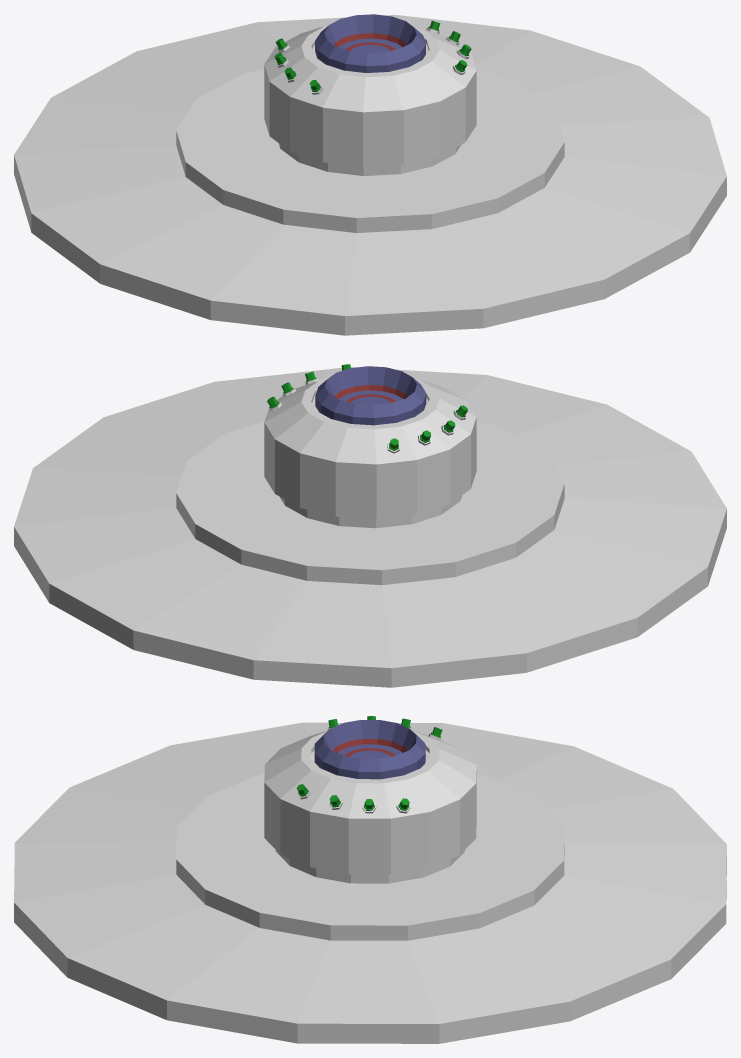
Rendered from reactor_bottom.fbx.
3 views of the same model, one above another, from view 1: azimuth 30°, elevation 25°; view 2: azimuth 150°, elevation 25°; view 3: azimuth 270°, elevation 25° (orthographic).
Visible parts, largest first — view 1: central_reactor; view 2: central_reactor; view 3: central_reactor.
Part boxes in pixels (x1=…): central_reactor: x1=14, y1=14, x2=726, y2=335; central_reactor: x1=14, y1=364, x2=726, y2=687; central_reactor: x1=14, y1=716, x2=726, y2=1043.
Size of the model in its own units: 738 by 176 by 738.
